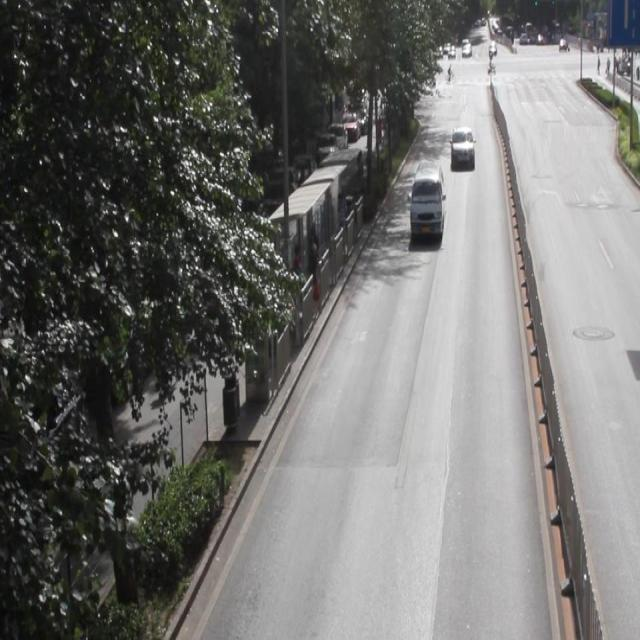car: (449, 126, 474, 167)
truck: (409, 162, 443, 235)
